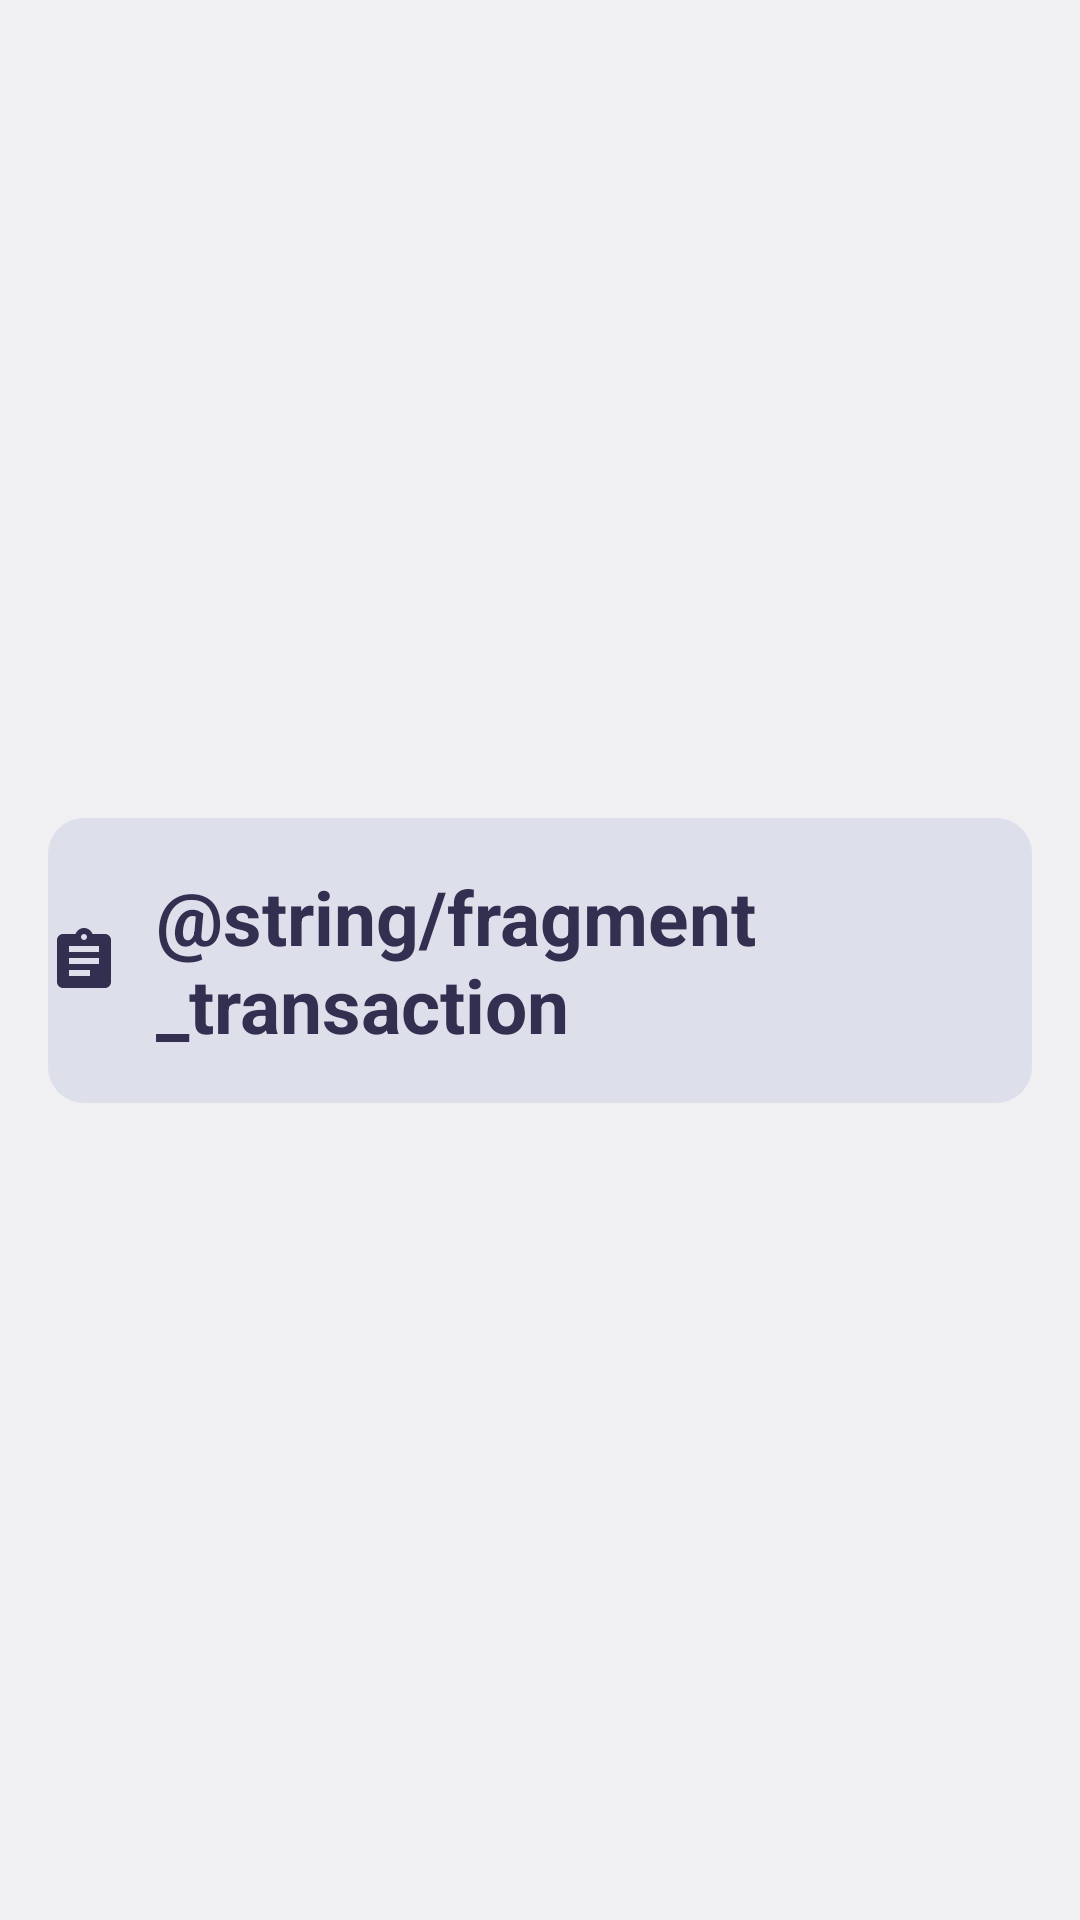

Icons on this 1080*1920 Android screen, each with the point to tap as (x,y):
assignment: (84,958)
